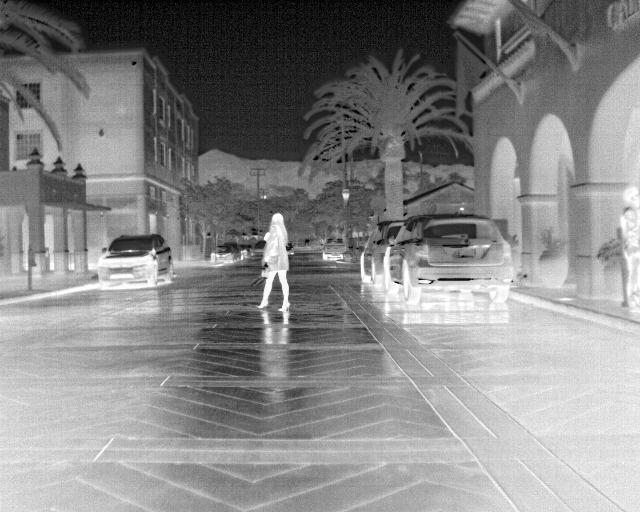bicycle: (386, 211, 516, 305), (93, 232, 173, 291), (374, 221, 404, 299), (361, 218, 392, 283), (208, 242, 243, 263), (323, 237, 347, 264)
empty: (253, 211, 290, 310), (618, 187, 639, 313)
